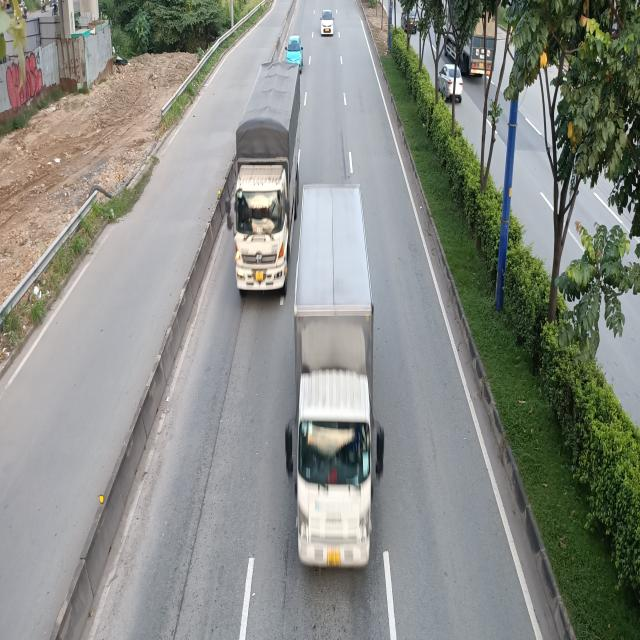car: (285, 36, 303, 64), (320, 9, 335, 37)
truck: (286, 182, 384, 570), (225, 62, 302, 298)
